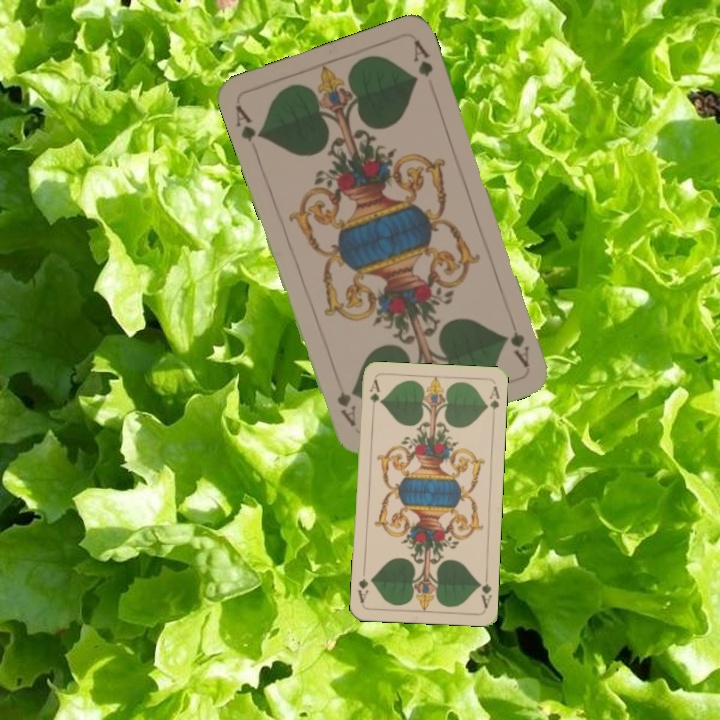GA: (231, 100, 266, 145), (506, 328, 532, 370), (475, 570, 494, 610), (365, 376, 382, 416)
